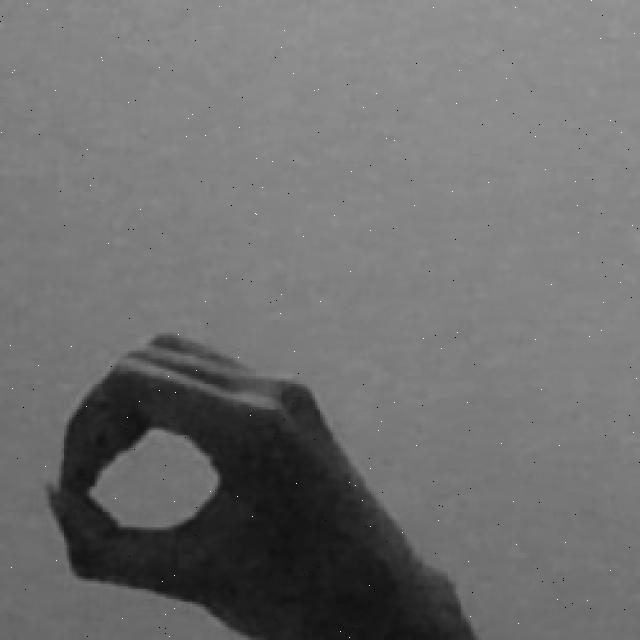O: (39, 329, 482, 640)
